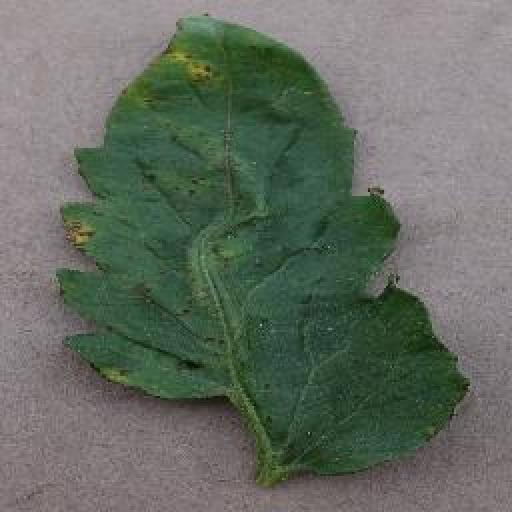Bacterial Spot: (51, 11, 472, 480)
